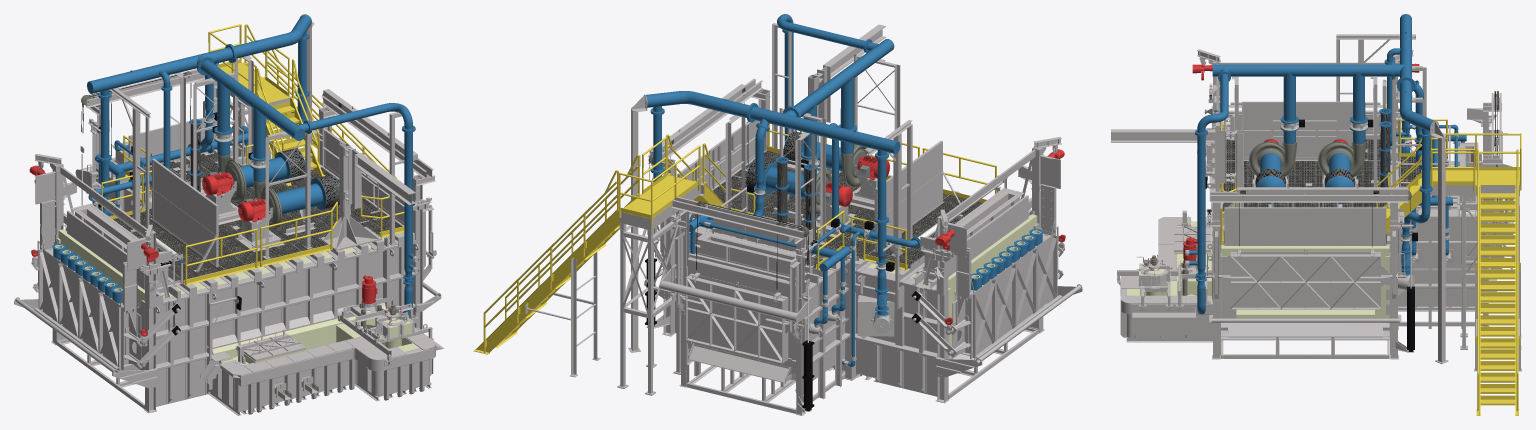
Rendered from schaefer_gas_aluminum_furnace-transformed.glb.
3 renders of one model, left to right at view 1: azimuth 30°, elevation 25°; view 2: azimuth 150°, elevation 25°; view 3: azimuth 270°, elevation 25°, orthographic. The views are drawn at different scales.
Parts seen in each view (by area): view 1: Mc channel MC4X13.8(1)[1]_Silver Painted Metal_0, Cut-Extrude4_Refractory_0, Plane001_Catwalk_0, NONE_Mesh guard_0; view 2: Mc channel MC4X13.8(1)[1]_Silver Painted Metal_0, Cut-Extrude4_Refractory_0, Plane001_Catwalk_0, NONE_Mesh guard_0; view 3: Mc channel MC4X13.8(1)[1]_Silver Painted Metal_0, Cut-Extrude4_Refractory_0, Plane001_Catwalk_0, NONE_Mesh guard_0.
Boxes of the visible parts, x1,y1,x2,y2 form: Mc channel MC4X13.8(1)[1]_Silver Painted Metal_0: [14, 14, 444, 415]; Cut-Extrude4_Refractory_0: [14, 24, 441, 400]; Plane001_Catwalk_0: [113, 151, 401, 282]; NONE_Mesh guard_0: [190, 103, 341, 209]; Mc channel MC4X13.8(1)[1]_Silver Painted Metal_0: [525, 14, 1082, 415]; Cut-Extrude4_Refractory_0: [473, 73, 1082, 366]; Plane001_Catwalk_0: [692, 151, 982, 268]; NONE_Mesh guard_0: [671, 88, 815, 242]; Mc channel MC4X13.8(1)[1]_Silver Painted Metal_0: [1111, 14, 1521, 371]; Cut-Extrude4_Refractory_0: [1127, 36, 1521, 415]; Plane001_Catwalk_0: [1224, 139, 1447, 243]; NONE_Mesh guard_0: [1240, 110, 1390, 193].
Bounding box in the file's own units: 13.13 × 7.24 × 11.26.
4 materials, 4 textured.
